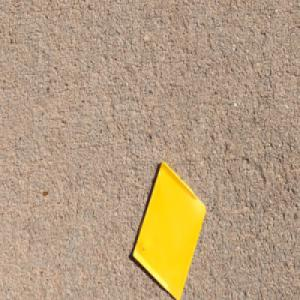PlasticPart: (131, 160, 206, 300)
